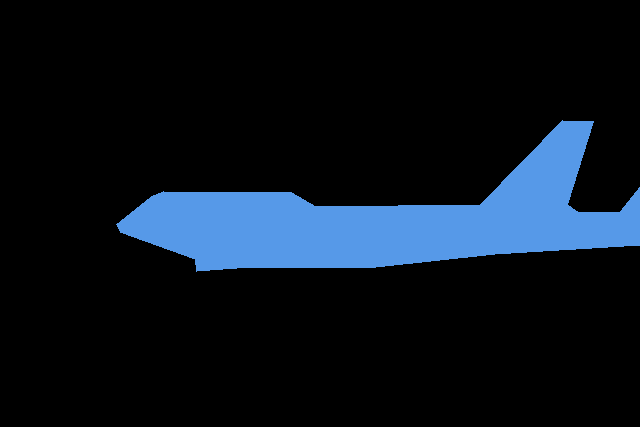Airplane: (116, 120, 640, 271)
